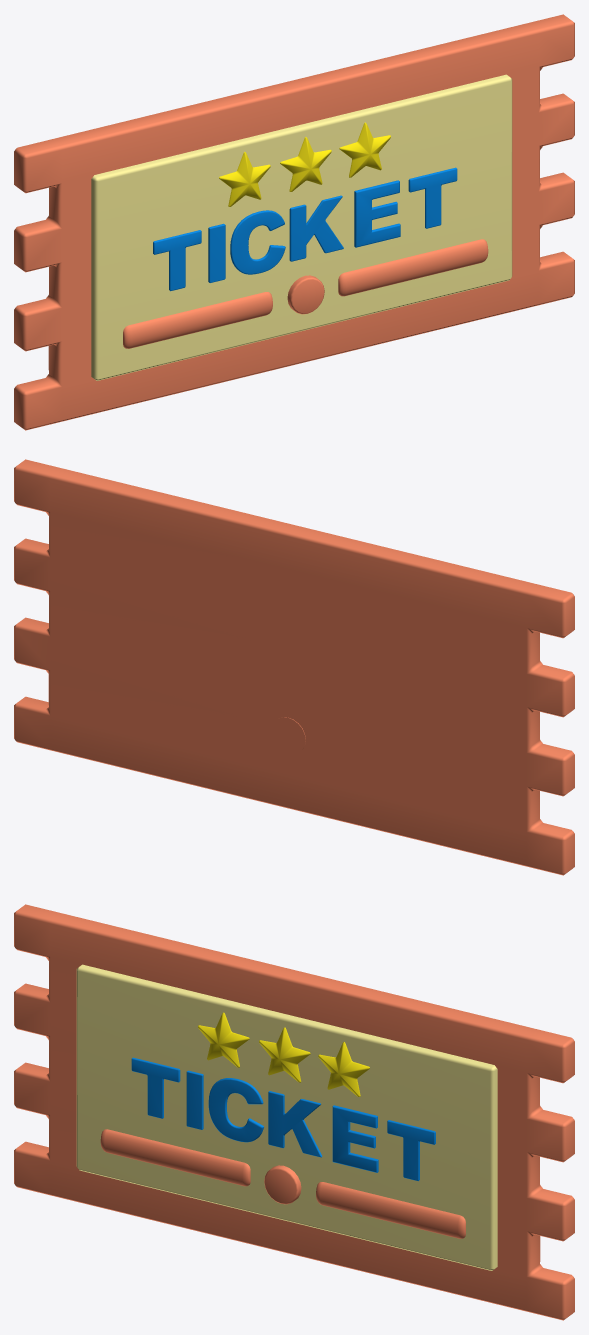
Rendered from Public_12_Theatre_Ticket_2.glb.
3 renders of one model, top to bottom at view 1: azimuth 30°, elevation 25°; view 2: azimuth 150°, elevation 25°; view 3: azimuth 330°, elevation 25°, orthographic.
Parts seen in each view (by area): view 1: Public_12_Theatre_Ticket_2; view 2: Public_12_Theatre_Ticket_2; view 3: Public_12_Theatre_Ticket_2.
Boxes of the visible parts, <box> form: Public_12_Theatre_Ticket_2: <box>14,14,574,430</box>; Public_12_Theatre_Ticket_2: <box>14,459,574,875</box>; Public_12_Theatre_Ticket_2: <box>14,904,574,1320</box>.
Size of the model in its own units: 2.19 by 1.05 by 0.1513.
Materials: 1 (1 with a texture image).
